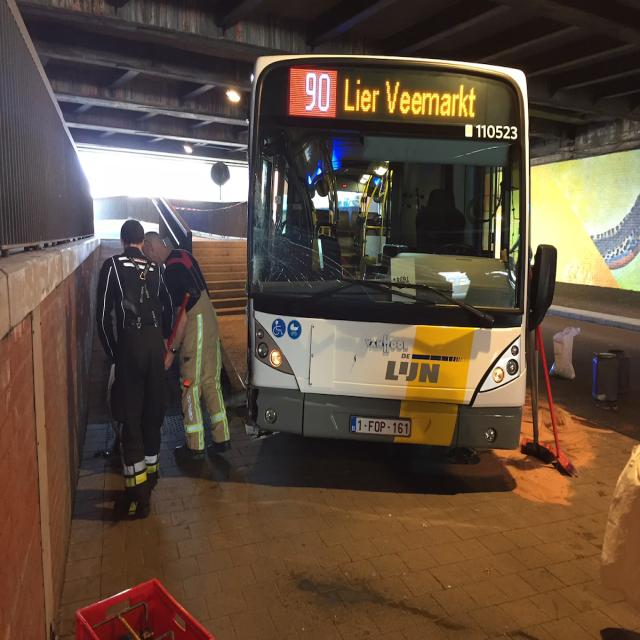bus-number: (291, 68, 337, 115)
